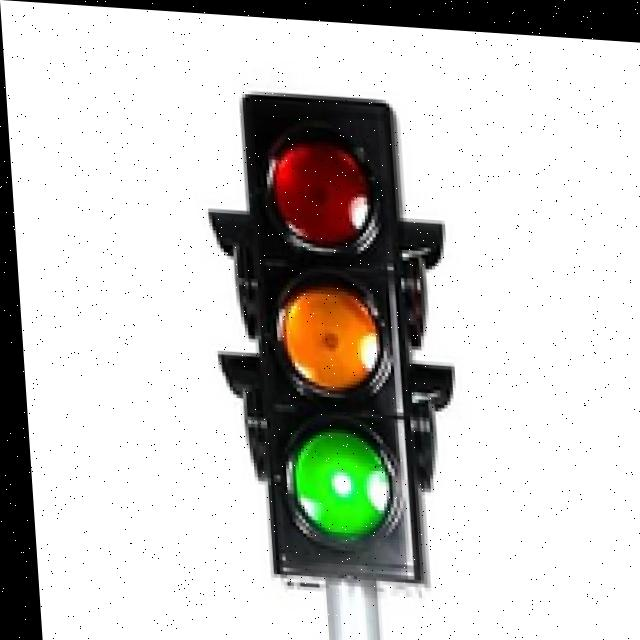light_traffic: (181, 80, 536, 633)
